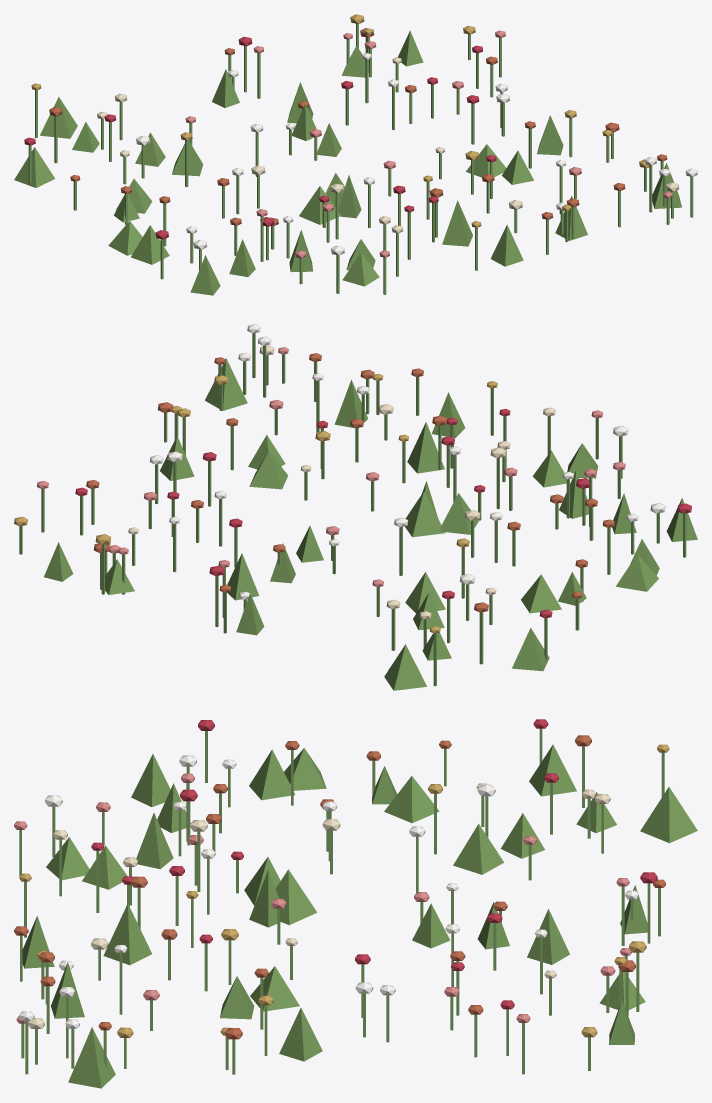
The model's file is meadow_flowers.glb.
3 views of the same model, one above another, from view 1: azimuth 30°, elevation 25°; view 2: azimuth 150°, elevation 25°; view 3: azimuth 270°, elevation 25° (orthographic). The views are drawn at different scales.
Visible parts, largest first — view 1: meadow_flowers; view 2: meadow_flowers; view 3: meadow_flowers.
Part boxes in pixels (x1=…): meadow_flowers: x1=14, y1=14, x2=697, y2=295; meadow_flowers: x1=14, y1=324, x2=697, y2=690; meadow_flowers: x1=14, y1=719, x2=697, y2=1088.
Size of the model in its own units: 6.25 by 0.7255 by 5.87.
